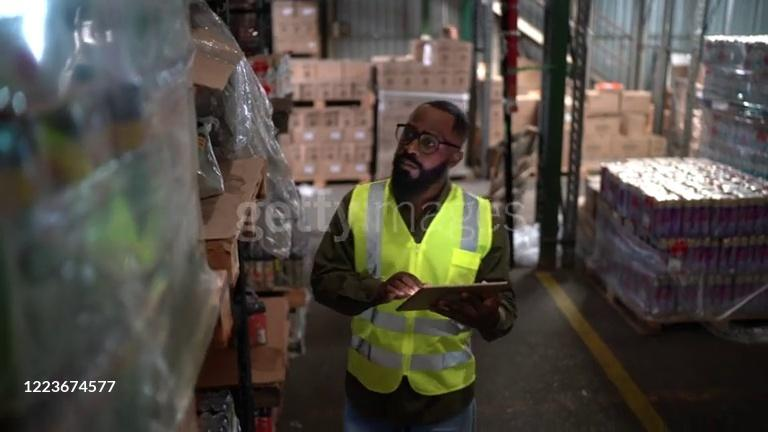person: (308, 100, 518, 432)
